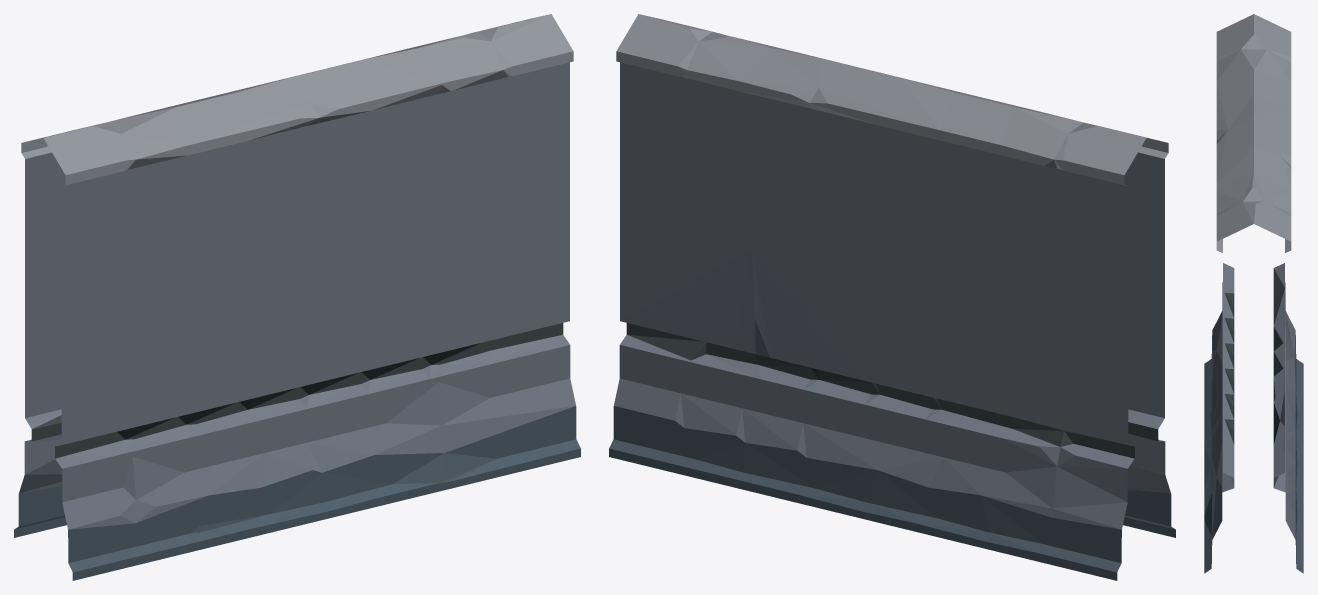
The model's file is Wall1.fbx.
3 renders of one model, left to right at view 1: azimuth 30°, elevation 25°; view 2: azimuth 150°, elevation 25°; view 3: azimuth 270°, elevation 25°, orthographic. The views are drawn at different scales.
Visible parts, largest first — view 1: Wall1; view 2: Wall1; view 3: Wall1.
Part boxes in pixels (box(x1,y1,x2,y2)): Wall1: box(14, 14, 580, 580); Wall1: box(609, 14, 1175, 580); Wall1: box(1204, 14, 1303, 573).
Size of the model in its own units: 600 by 476 by 120.
